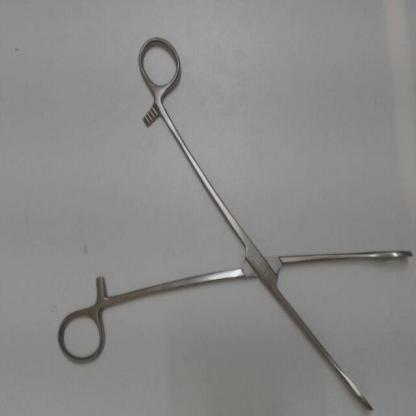Sponge Forceps: (52, 28, 415, 414)
